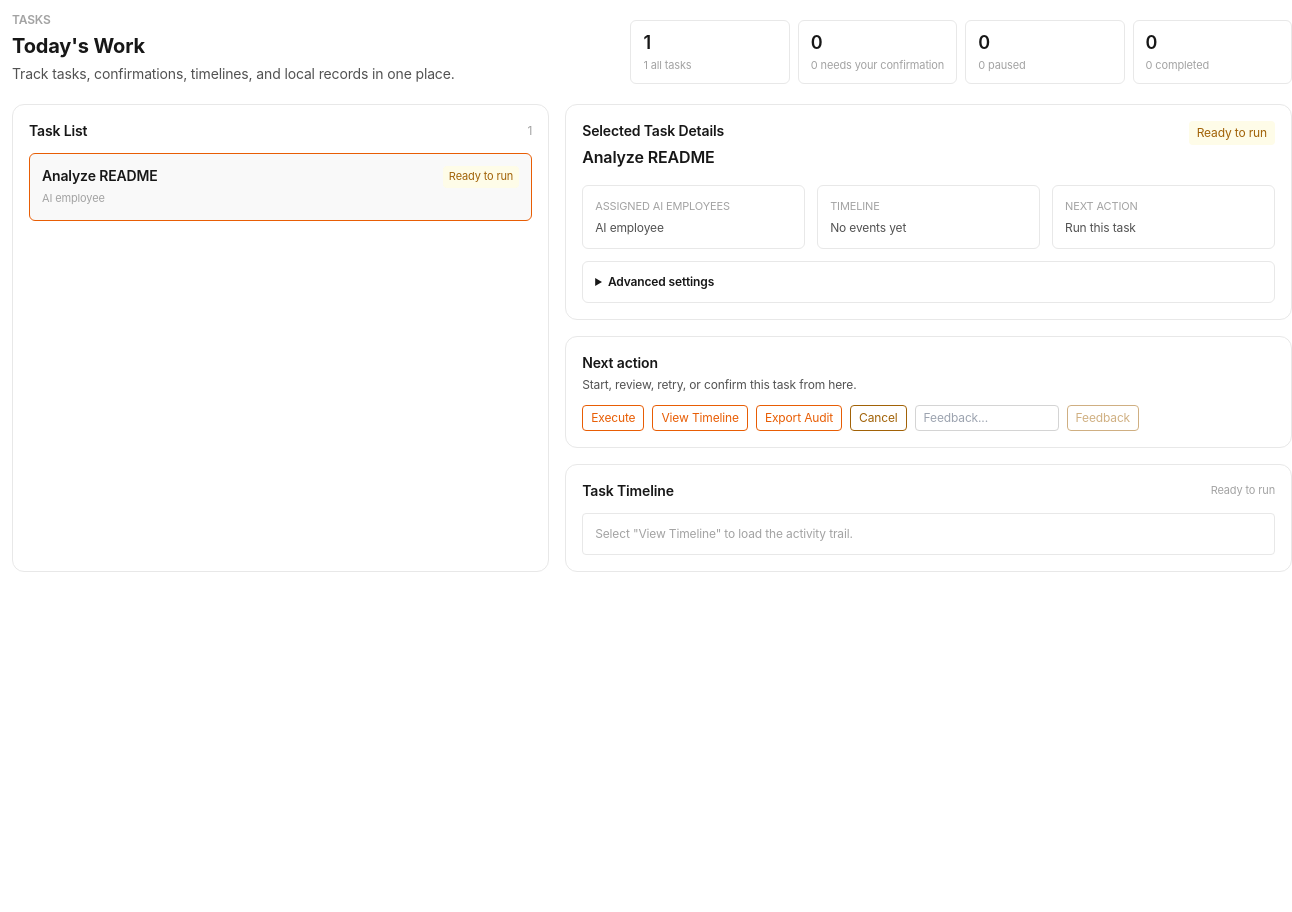
WorkOrders › surfaces cancelled work as non-runnable founder-readable state after cancel
This screenshot has width=1292, height=912.
Click the button "Cancel". click: point(878, 418)
box: [850,405,907,431]
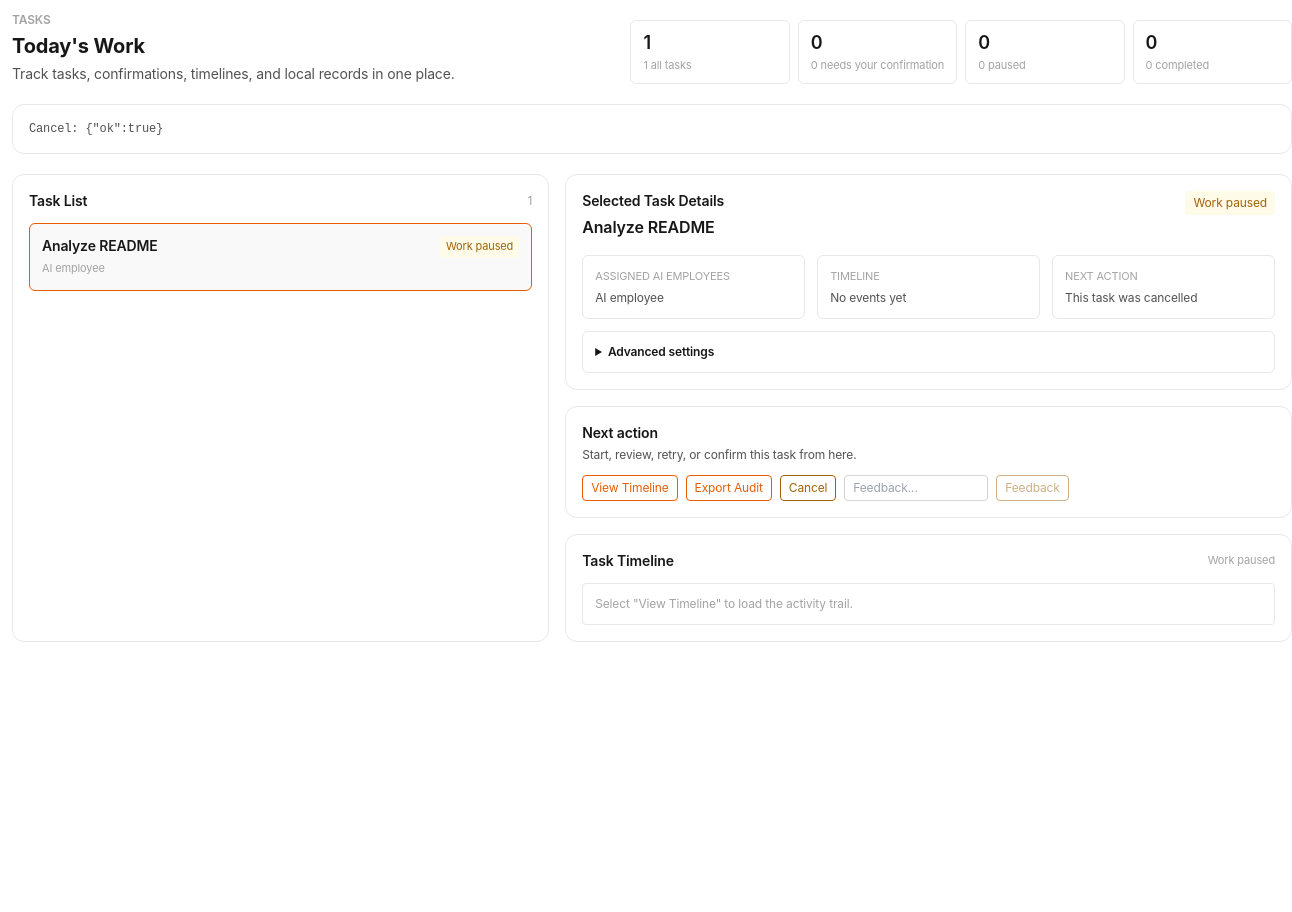
Expected: the text "This task was cancelled" is shown, [1065,290,1197,305]
Expected: the button "Execute" is gone
